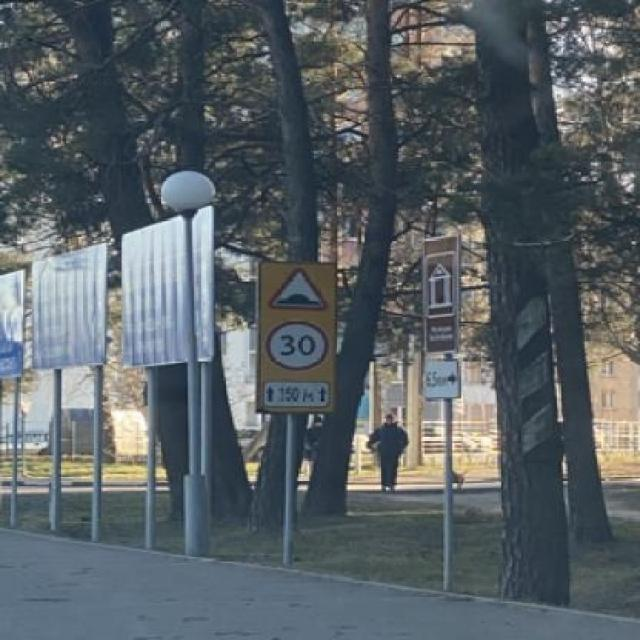forb_speed_over_30: (267, 322, 325, 369)
